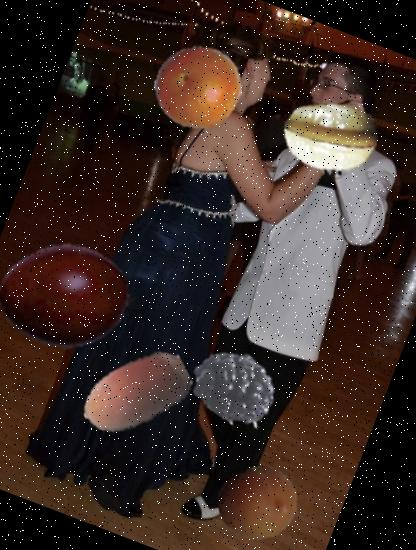Apricot: (206, 452, 309, 550)
Carambula: (266, 74, 392, 199)
Hazelnut: (62, 321, 207, 466)
Mulberry: (180, 314, 312, 446)
Tamarillo: (0, 202, 165, 391)
Tangelo: (141, 30, 255, 144)
